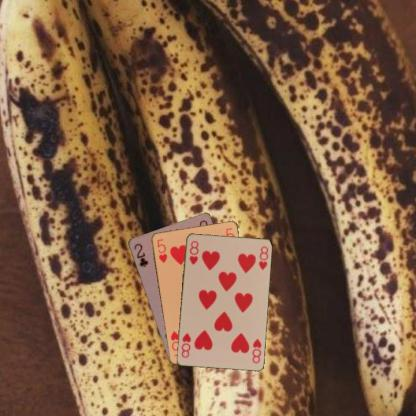2c: (131, 241, 149, 268)
5h: (154, 236, 168, 264)
8h: (249, 336, 262, 364), (187, 238, 199, 266)
